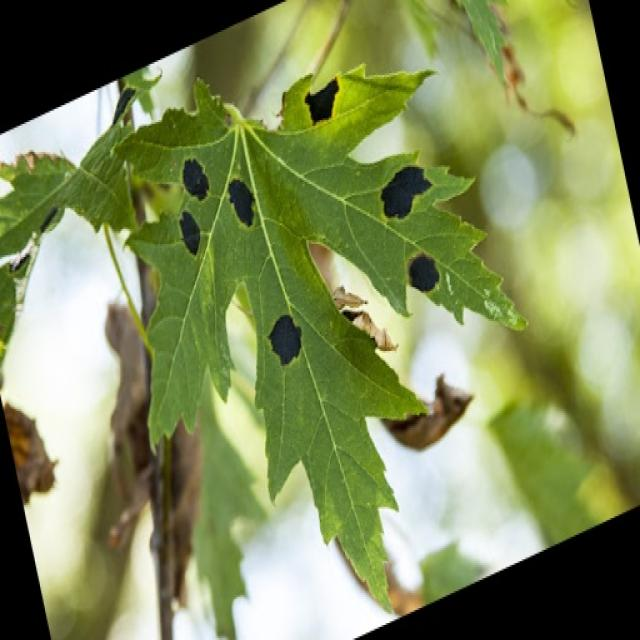Tar_Spot: (151, 103, 467, 460), (266, 312, 302, 366)
